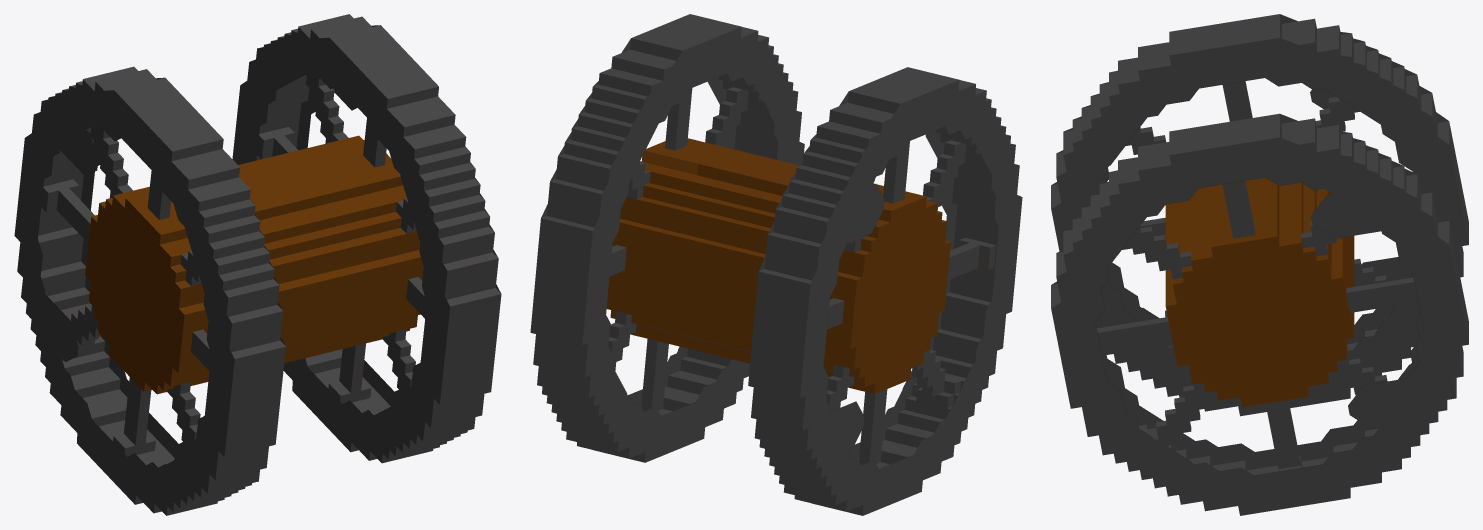
The model's file is wheel.fbx.
The picture shows the model from 3 angles, left to right: view 1: azimuth 30°, elevation 25°; view 2: azimuth 150°, elevation 25°; view 3: azimuth 270°, elevation 25°; orthographic projection. The views are drawn at different scales.
Parts seen in each view (by area): view 1: wheel; view 2: wheel; view 3: wheel.
Boxes of the visible parts, box(x1,y1,x2,y2) form: wheel: box(14, 14, 501, 515); wheel: box(530, 14, 1022, 515); wheel: box(1051, 14, 1468, 515).
Bounding box in the file's own units: 260 × 372 × 372.
